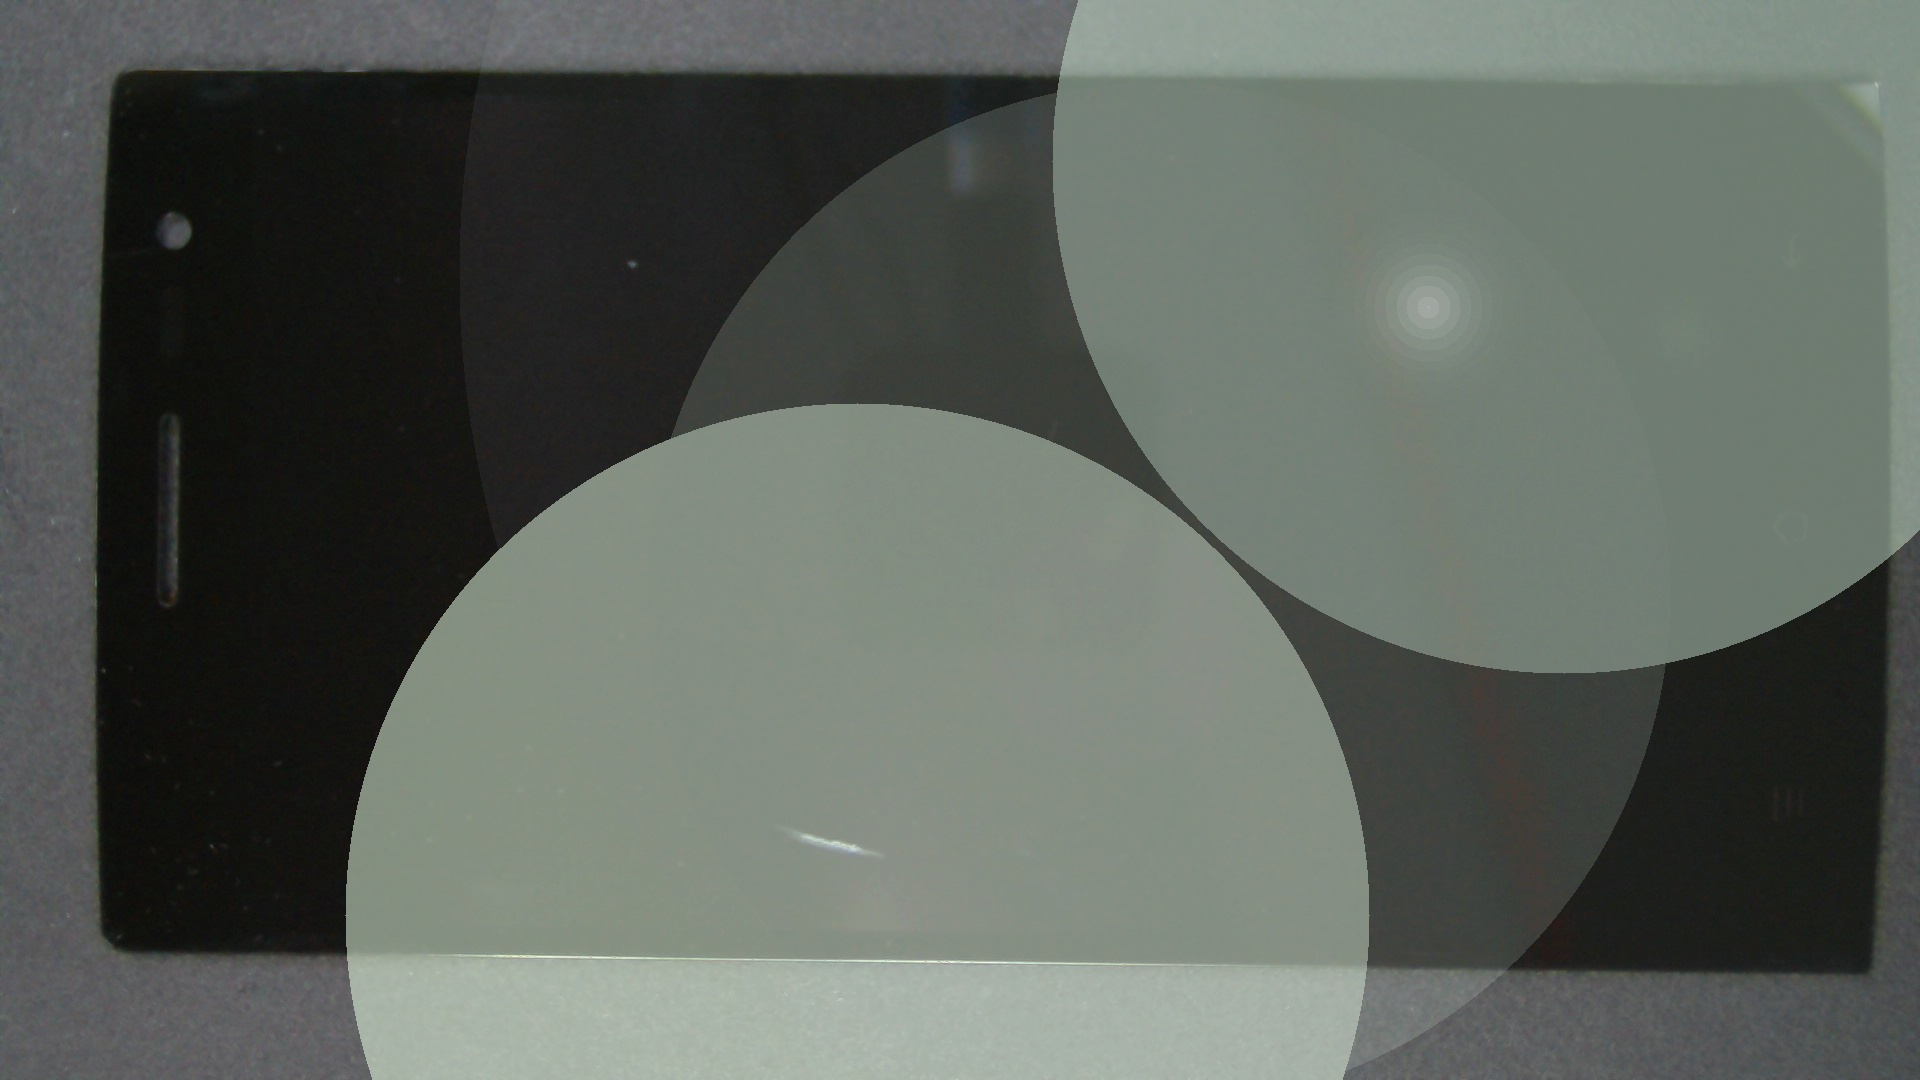oil: (388, 411, 1166, 1080)
